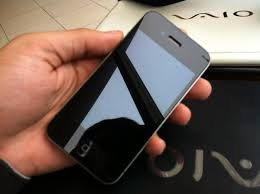iphone: (45, 10, 211, 188)
iphone4: (45, 9, 211, 187)
